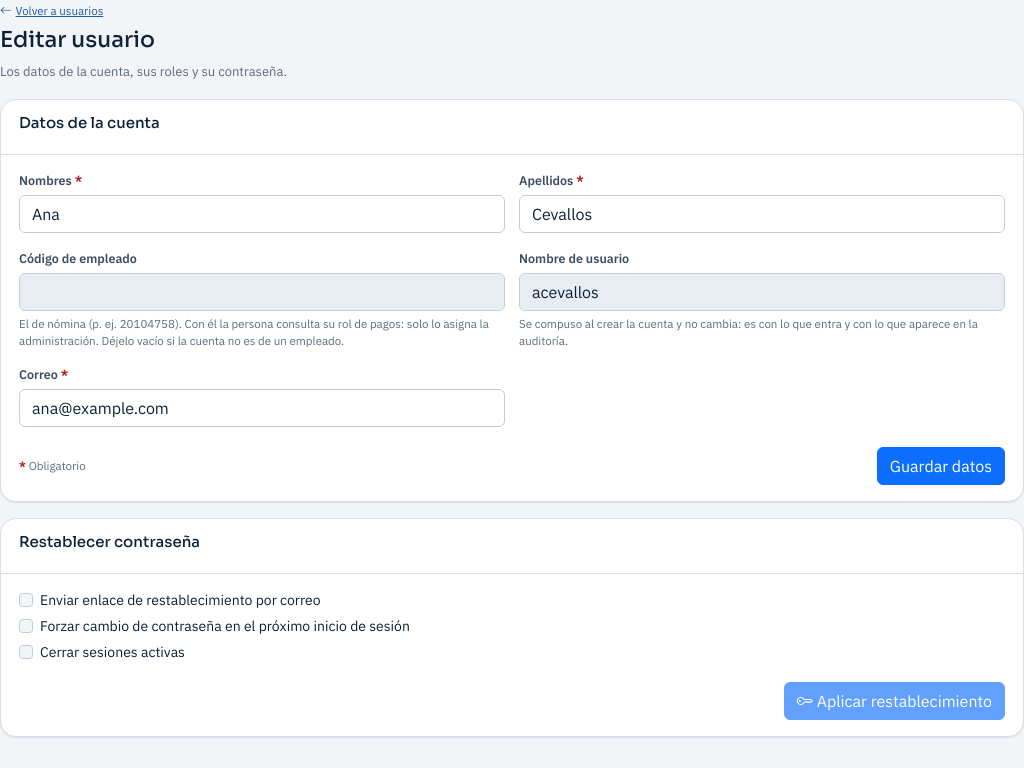
Test case: Restablecer la contraseña de otra persona › pregunta antes: las tres acciones son irreversibles
The image size is (1024, 768).
Expected: the heading "Restablecer contraseña" is shown, [19,533,200,551]
Click the checkbox labelled "Cerrar sesiones activas".
click(26, 652)  # box [19,645,33,659]
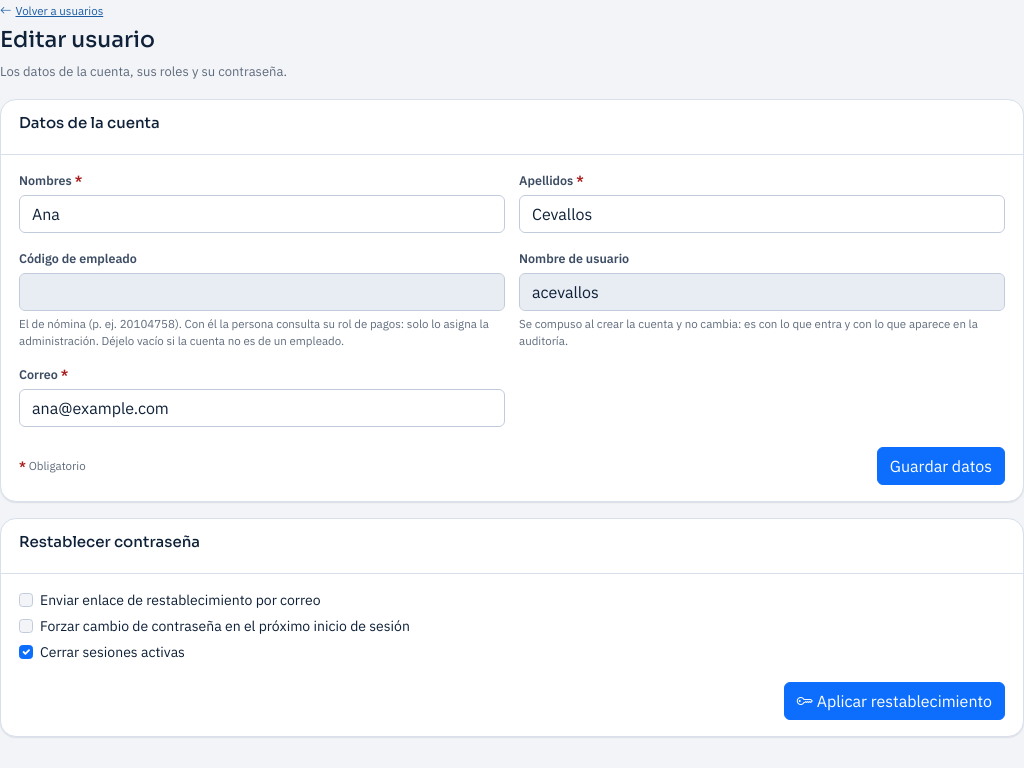
Click the button "Aplicar restablecimiento".
click(894, 701)  # box [784,682,1005,720]
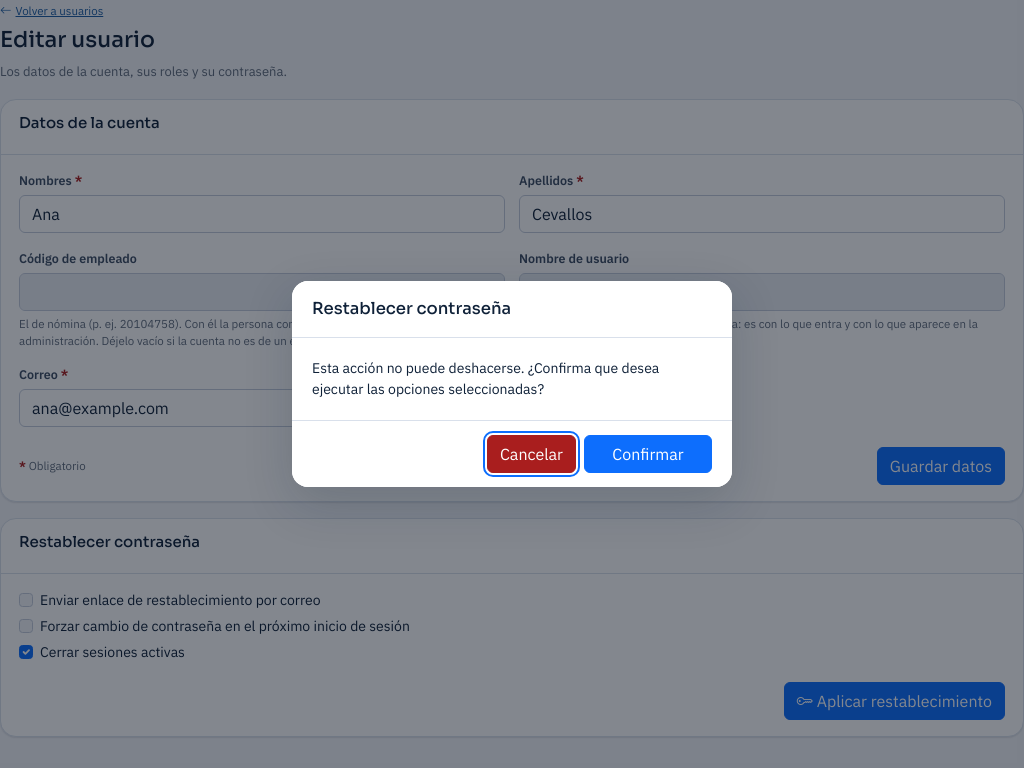
Expected: the text "Esta acción no puede deshacerse" is shown, [312,359,659,398]
